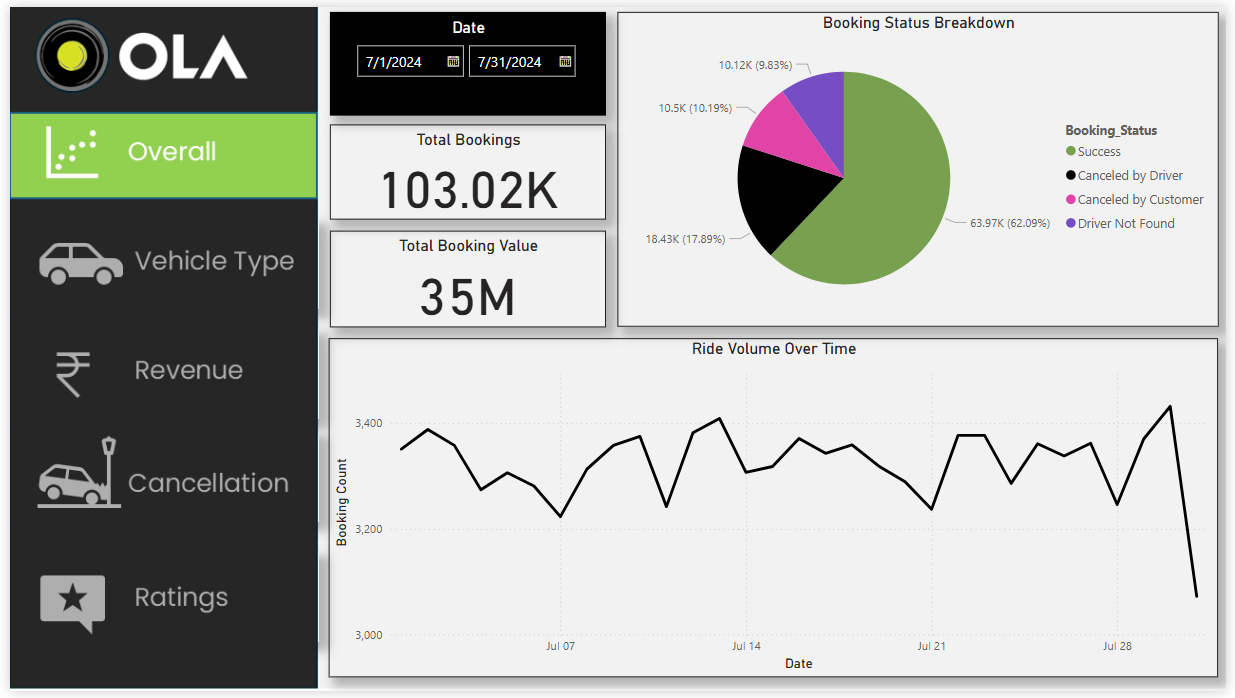

This screenshot's page, from the dashboard's own definition file:
{"tool":"powerbi","page":{"name":"Overall","canvas":[1280,720],"ordinal":0},"visuals":[{"type":"actionButton","box":[0,223.8,325.4,94.3],"z":0},{"type":"actionButton","box":[0,339.9,325.4,94.3],"z":1000},{"type":"actionButton","box":[0,447.7,325.4,94.3],"z":2000},{"type":"actionButton","box":[0,574.1,325.4,94.3],"z":3000},{"type":"lineChart","title":"Ride Volume Over Time","fields":{"Y":["CountNonNull(Ola_bookings.Booking_ID)"],"Category":["Ola_bookings.Date"]},"box":[336,348.8,936,357],"z":4000},{"type":"pieChart","title":"Booking Status Breakdown","fields":{"Category":["Ola_bookings.Booking_Status"],"Y":["CountNonNull(Ola_bookings.Booking_Status)"]},"box":[640,5,632.5,331.2],"z":5000},{"type":"slicer","title":"Date","fields":{"Values":["Ola_bookings.Date"]},"box":[336.8,4.7,290.1,109.2],"z":6000},{"type":"card","title":"Total Bookings","fields":{"Values":["CountNonNull(Ola_bookings.Booking_Status)"]},"box":[336.8,123.2,290.1,99.8],"z":7000},{"type":"card","title":"Total Booking Value","fields":{"Values":["Sum(Ola_bookings.Booking_Value)"]},"box":[336.8,235.5,290.1,101.4],"z":8000}]}

Visuals, with their boxes in screenshot pixels (x1, y1, x2, y2), scaled from the page's 1280x720 canvas onto the 1235x698 screenshot:
actionButton: Rect(0, 217, 314, 308)
actionButton: Rect(0, 330, 314, 421)
actionButton: Rect(0, 434, 314, 525)
actionButton: Rect(0, 557, 314, 648)
"Ride Volume Over Time" lineChart: Rect(324, 338, 1227, 684)
"Booking Status Breakdown" pieChart: Rect(618, 5, 1228, 326)
"Date" slicer: Rect(325, 5, 605, 110)
"Total Bookings" card: Rect(325, 119, 605, 216)
"Total Booking Value" card: Rect(325, 228, 605, 327)
